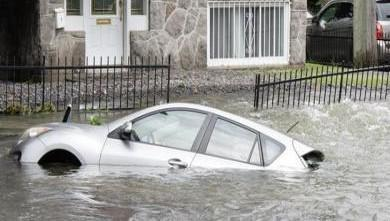water: (0, 98, 389, 219)
